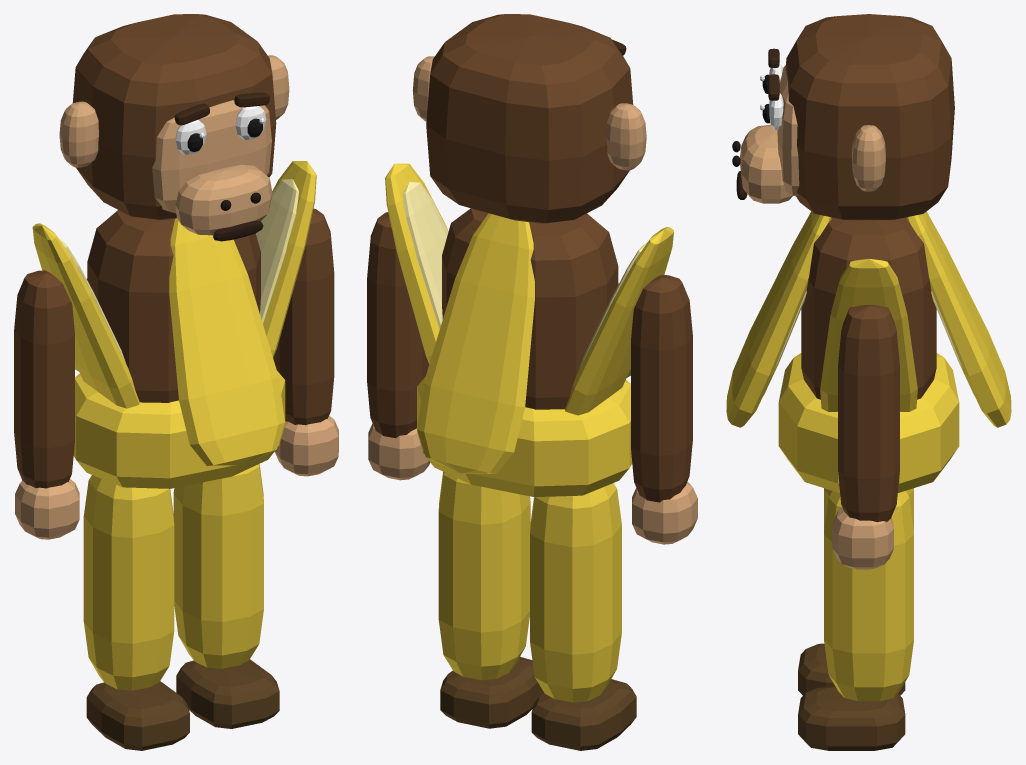
File: br-chimpanzini.glb
3 renders of one model, left to right at view 1: azimuth 30°, elevation 25°; view 2: azimuth 150°, elevation 25°; view 3: azimuth 270°, elevation 25°, orthographic.
Parts seen in each view (by area): view 1: torso, head, leg-right, leg-left, arm-right, arm-left; view 2: torso, head, leg-right, leg-left, arm-right, arm-left; view 3: torso, head, leg-left, arm-left, leg-right.
Part boxes in pixels (bbox=[...]): torso: bbox=[32, 161, 316, 488]; head: bbox=[59, 14, 289, 241]; leg-right: bbox=[83, 475, 189, 750]; leg-left: bbox=[173, 464, 279, 728]; arm-right: bbox=[14, 270, 79, 539]; arm-left: bbox=[273, 208, 338, 476]; torso: bbox=[385, 163, 673, 496]; head: bbox=[412, 14, 646, 223]; leg-right: bbox=[530, 483, 636, 750]; leg-left: bbox=[438, 471, 543, 728]; arm-right: bbox=[631, 275, 697, 544]; arm-left: bbox=[367, 212, 430, 480]; torso: bbox=[726, 211, 1011, 492]; head: bbox=[732, 14, 954, 220]; leg-left: bbox=[798, 490, 913, 750]; arm-left: bbox=[832, 305, 899, 569]; leg-right: bbox=[798, 488, 913, 695].
Bounding box in the file's own units: 1.25 × 2.61 × 0.9898.
